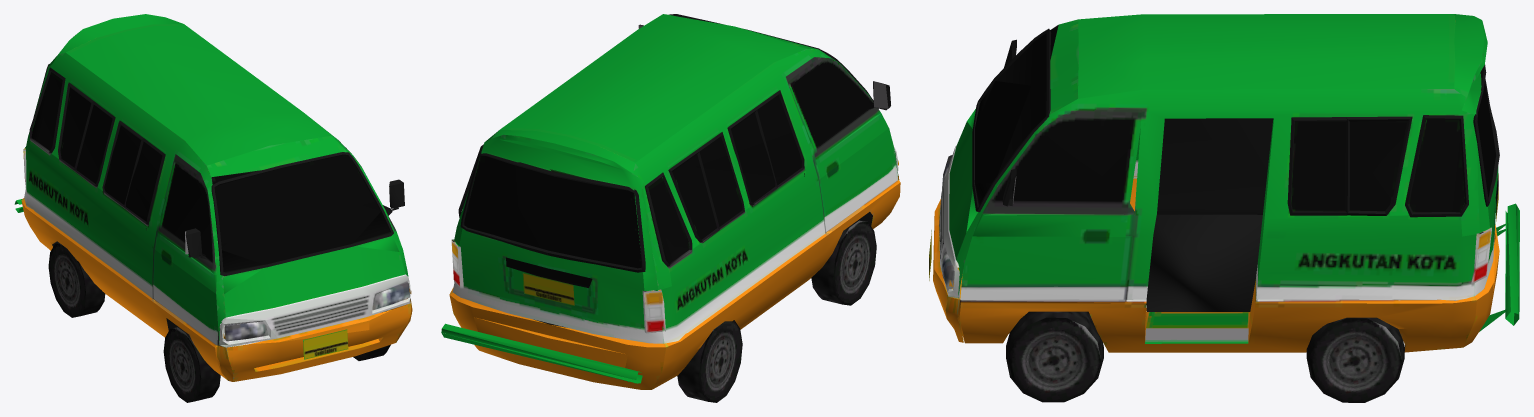
The model's file is Angkot.fbx.
3 views of the same model, side by side, from view 1: azimuth 30°, elevation 25°; view 2: azimuth 150°, elevation 25°; view 3: azimuth 270°, elevation 25° (orthographic). The views are drawn at different scales.
Visible parts, largest first — view 1: mesh_18_133.nr, mesh_15_119.nr.004, mesh_15_119.nr.001; view 2: mesh_18_133.nr, mesh_15_119.nr.004, mesh_15_119.nr.001; view 3: mesh_18_133.nr, mesh_15_119.nr.002, mesh_15_119.nr.003.
Part boxes in pixels (bbox=[...]): mesh_18_133.nr: bbox=[14, 14, 412, 381]; mesh_15_119.nr.004: bbox=[163, 327, 220, 402]; mesh_15_119.nr.001: bbox=[48, 243, 105, 317]; mesh_18_133.nr: bbox=[441, 14, 900, 389]; mesh_15_119.nr.004: bbox=[811, 219, 876, 305]; mesh_15_119.nr.001: bbox=[677, 320, 742, 402]; mesh_18_133.nr: bbox=[929, 14, 1519, 352]; mesh_15_119.nr.002: bbox=[1006, 311, 1103, 402]; mesh_15_119.nr.003: bbox=[1306, 317, 1404, 402].
Bounding box in the file's own units: 456 × 473 × 826.
Materials: 5 (5 with a texture image).
